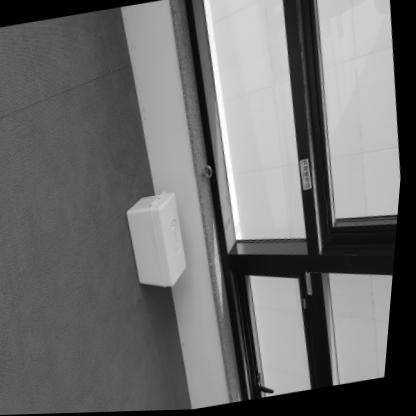DDL: (121, 188, 197, 294)
